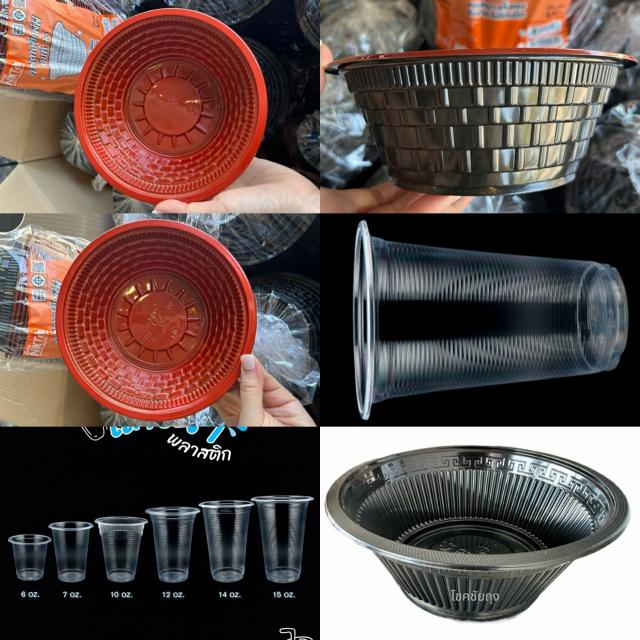Single-Use-Plastic: (354, 221, 628, 419), (327, 446, 629, 620), (329, 48, 635, 194), (56, 220, 256, 421), (74, 9, 268, 203), (251, 495, 313, 582), (199, 500, 254, 582), (145, 506, 200, 582), (95, 516, 148, 582), (49, 521, 94, 582), (9, 534, 51, 581)
